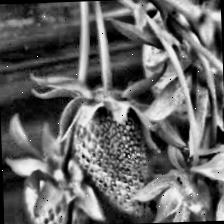Gray Mold: (72, 70, 157, 218)
